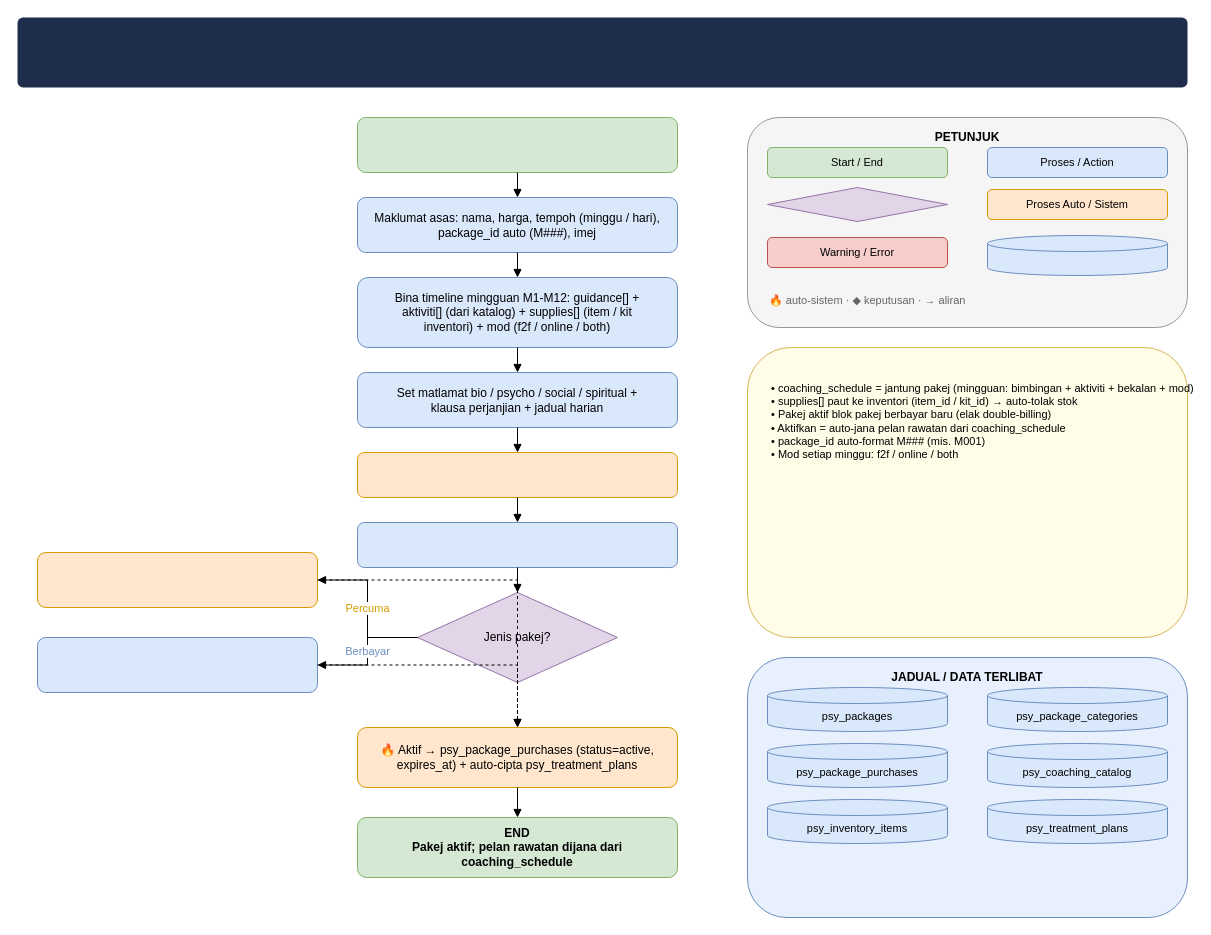
This 1211x935 diagram has some shape labels left out. Here are the shapes that lost their labels. From the top down, the box of each, then its label:
(17, 17, 1187, 87): FLOW: PAKEJ RAWATAN Staff bina pakej → pesakit aktifkan → jana pelan
(356, 116, 678, 172): START Staff buka pakej.html → '+ Tambah Pakej' (pakej-edit.html)
(766, 186, 948, 222): Keputusan / Decision
(986, 234, 1168, 276): Database
(356, 452, 678, 498): 🔥 Simpan → psy_packages (coaching_schedule JSONB)
(746, 346, 1188, 638): NOTA PENTING
(356, 522, 678, 568): Pesakit buka pakej.html → lihat pakej aktif
(36, 552, 318, 608): 🔥 Percuma: auto-aktif
(36, 636, 318, 692): Berbayar: redirect payment.html
